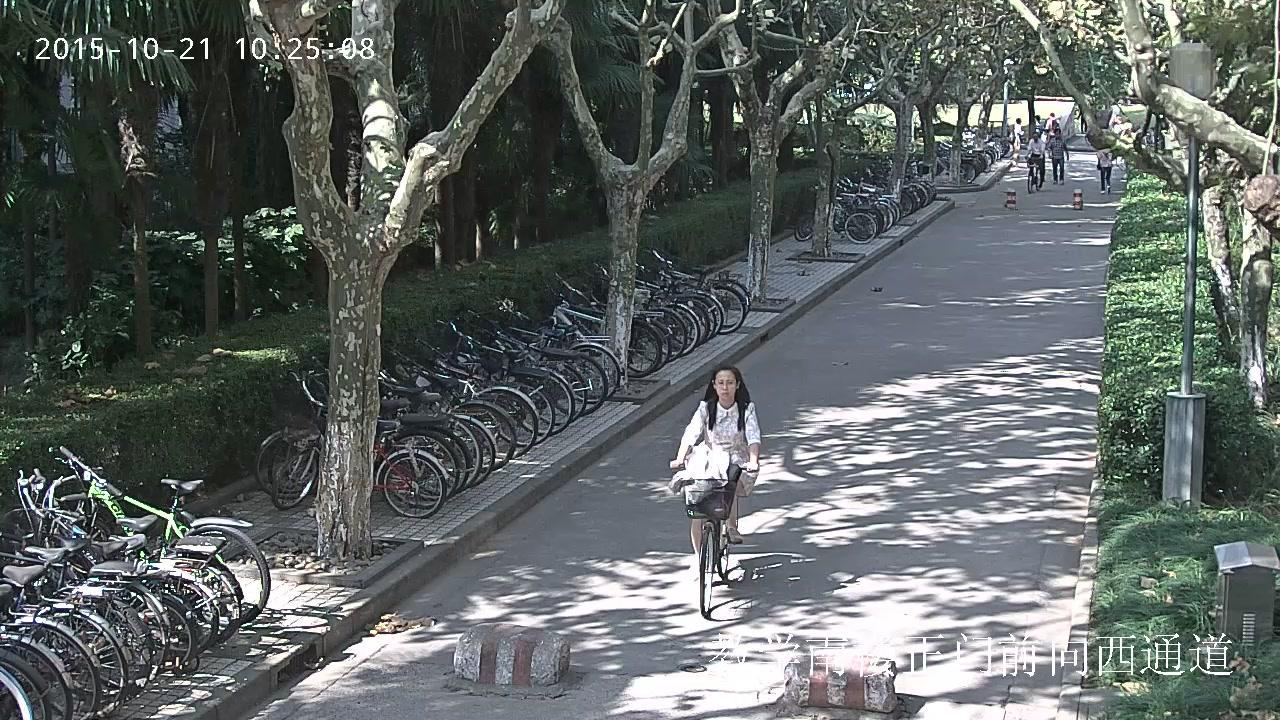person: (667, 363, 763, 616), (667, 364, 763, 569), (1024, 132, 1046, 193), (1048, 128, 1068, 184), (1024, 132, 1046, 176), (1095, 147, 1115, 195), (1045, 112, 1060, 136), (1032, 113, 1044, 132)
